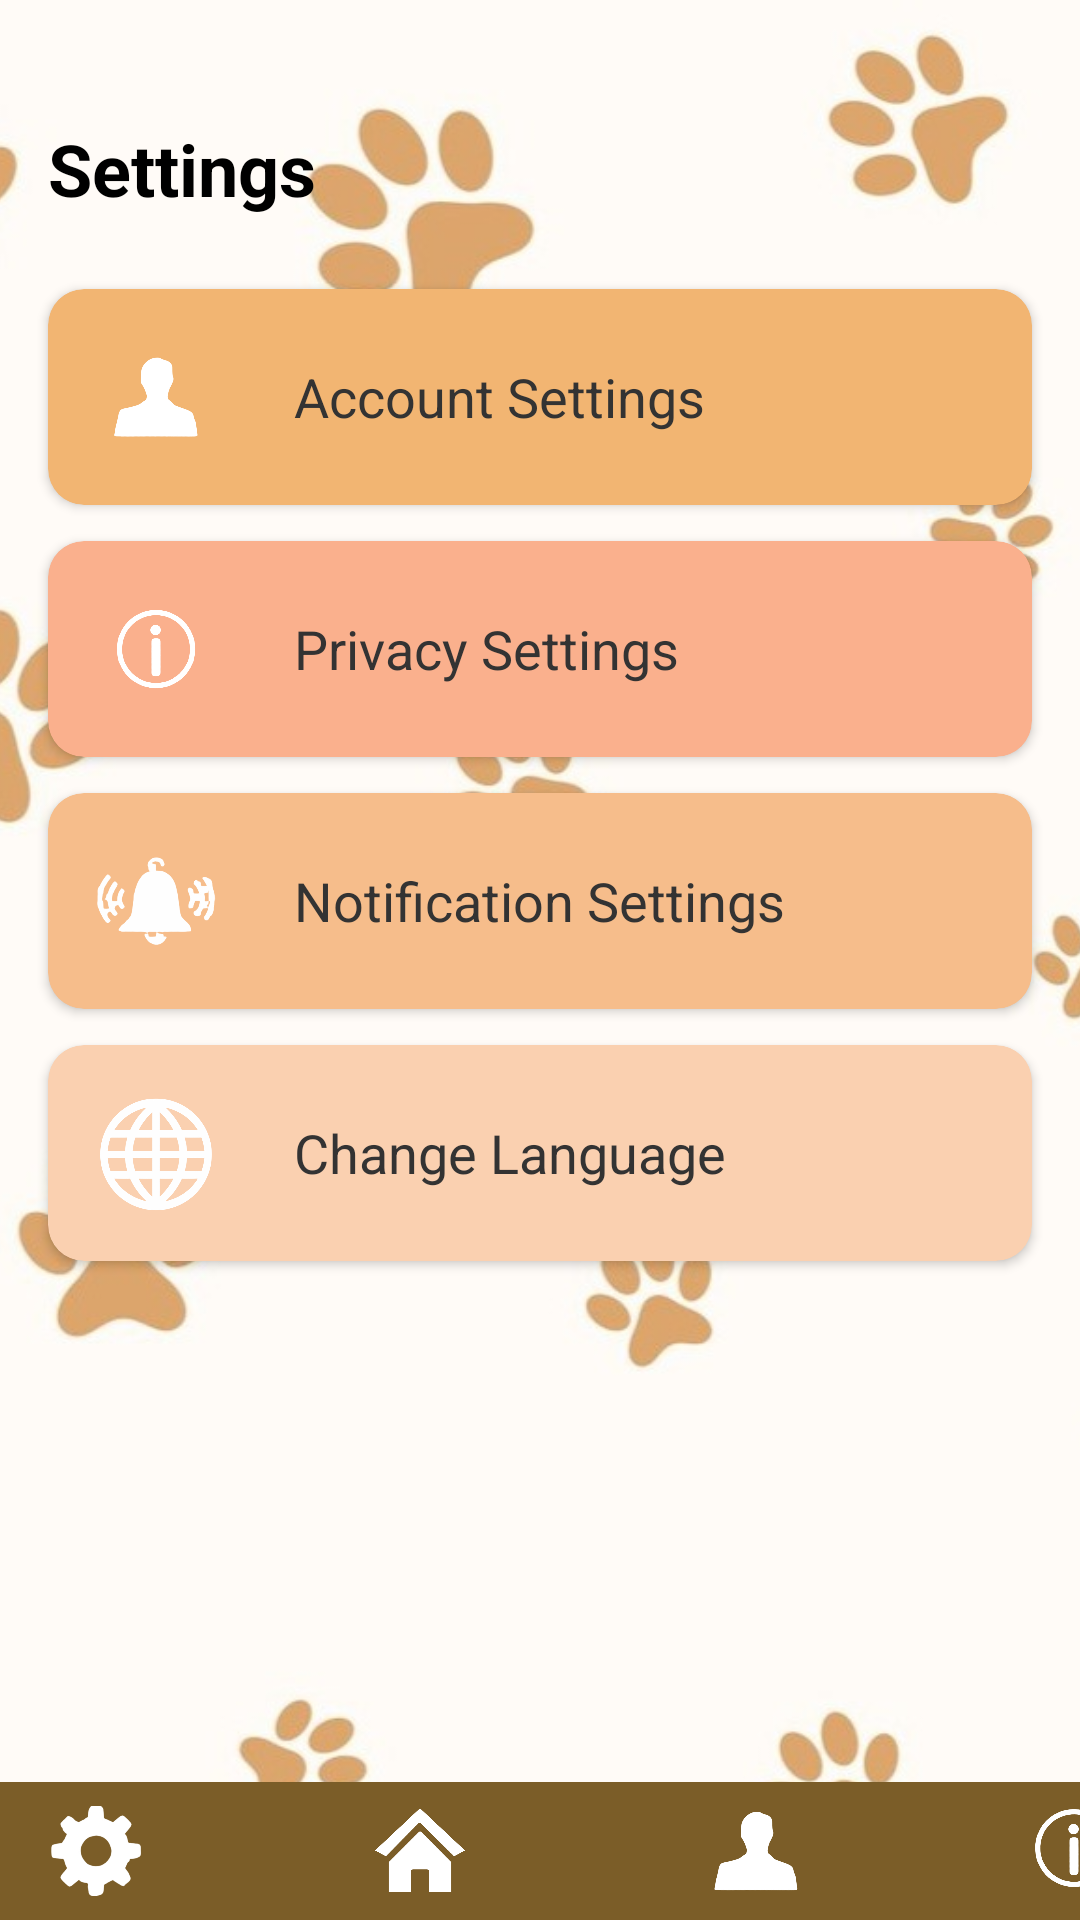

Icon bounding boxes for this 1080px×1920px phone screenshot, format (x1, y1, x2, y2):
bell: (97, 857, 215, 945)
home: (375, 1809, 465, 1892)
profile: (114, 357, 198, 437), (714, 1812, 798, 1890)
